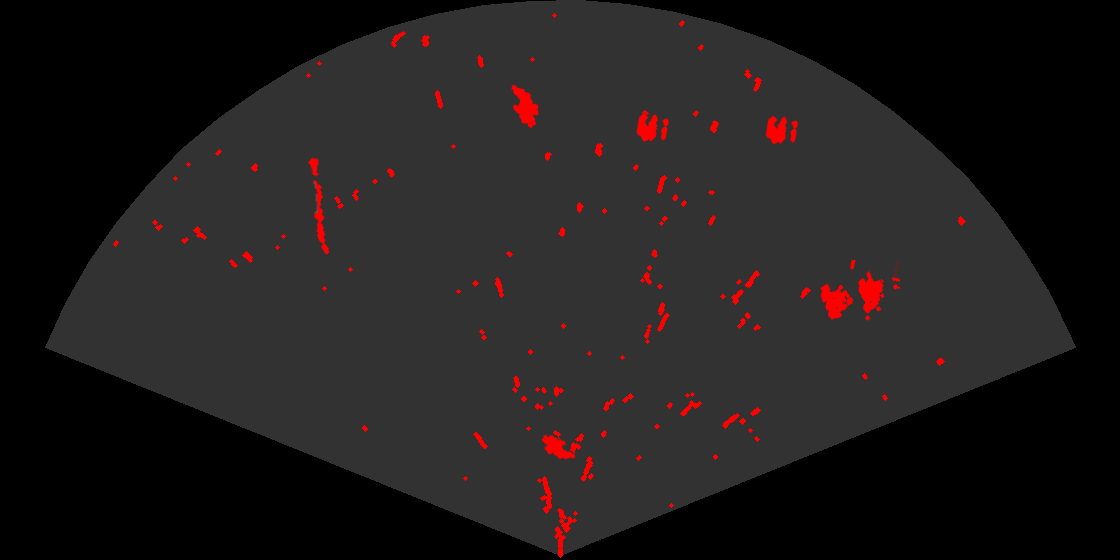AUV: (510, 83, 540, 130), (540, 433, 577, 461)
ball: (764, 114, 799, 146), (635, 112, 670, 143)
cage: (819, 260, 900, 322)
chain: (306, 156, 331, 256)
